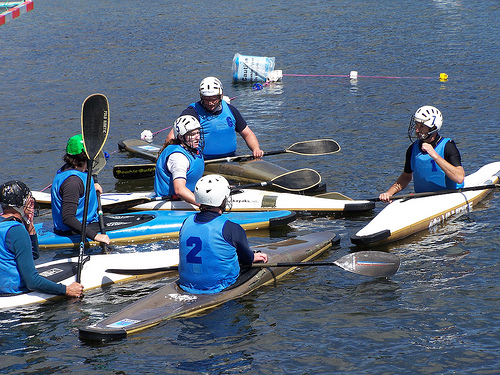helmet: (195, 175, 234, 203), (411, 107, 447, 132), (1, 180, 32, 204), (200, 78, 231, 96), (172, 120, 201, 137)
